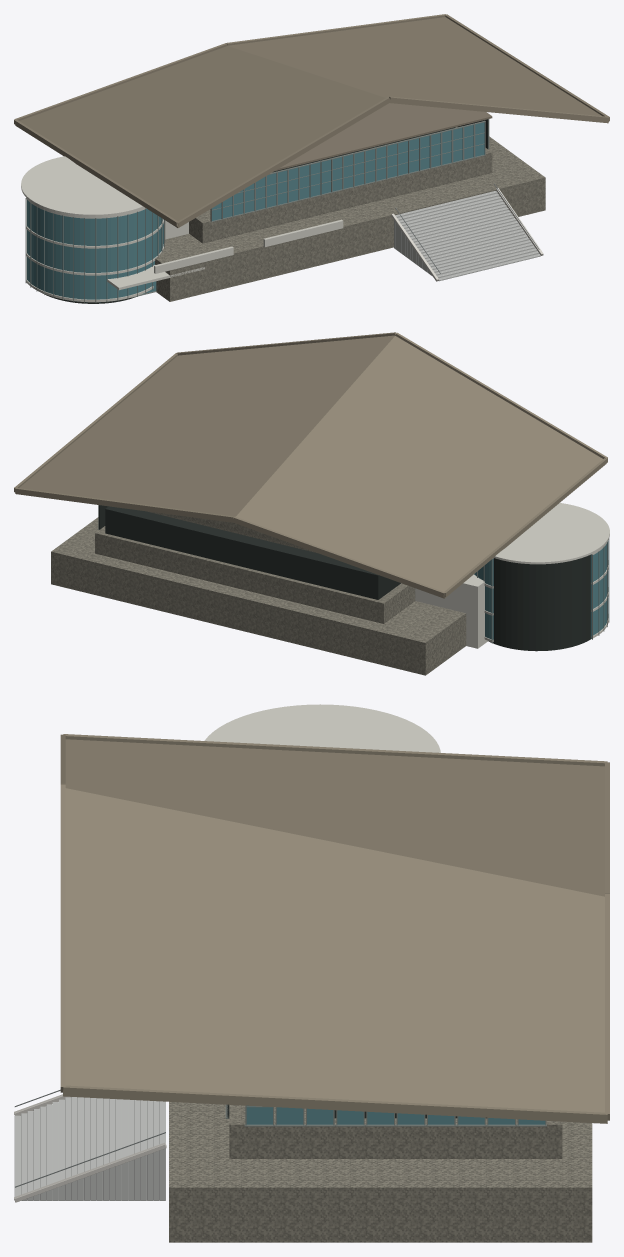
3 renders of one model, top to bottom at view 1: azimuth 30°, elevation 25°; view 2: azimuth 150°, elevation 25°; view 3: azimuth 270°, elevation 25°, orthographic. The views are drawn at different scales.
Visible parts, largest first — view 1: estimated-folded-cantilever-roof__copper, estimated-hillside-plinth__stone, rounded-hall-glass__glass, wide-chapel-hill-stair__concrete, chapel-front-glass__glass, thin-roof-perimeter__copper, chapel-setback-base__stone, estimated-inner-hall-ceiling__soffit, estimated-hall-flat-roof__pale, chapel-front-glass__frame, rounded-hall-mullions__frame, rounded-hall-floor-ribbons__pale (+3 smaller); view 2: estimated-folded-cantilever-roof__copper, estimated-hillside-plinth__stone, estimated-chapel-interior-core__dark, estimated-rounded-hall-inner-core__dark, chapel-setback-base__stone, thin-roof-perimeter__copper, estimated-hall-flat-roof__pale, estimated-hall-connector__pale, rounded-hall-glass__glass, estimated-high-back-wall__stone, rounded-hall-mullions__frame; view 3: estimated-folded-cantilever-roof__copper, estimated-hillside-plinth__stone, wide-chapel-hill-stair__concrete, thin-roof-perimeter__copper, chapel-setback-base__stone, estimated-hall-flat-roof__pale, chapel-side-glass__glass, chapel-side-glass__frame, wide-chapel-hill-stair-cheeks__trim.
Boxes of the visible parts, <box> form: estimated-folded-cantilever-roof__copper: <box>15,17,608,227</box>; estimated-hillside-plinth__stone: <box>155,136,545,301</box>; rounded-hall-glass__glass: <box>27,200,163,302</box>; wide-chapel-hill-stair__concrete: <box>394,191,540,281</box>; chapel-front-glass__glass: <box>212,122,484,220</box>; thin-roof-perimeter__copper: <box>14,14,609,226</box>; chapel-setback-base__stone: <box>189,127,492,243</box>; estimated-inner-hall-ceiling__soffit: <box>275,103,492,170</box>; estimated-hall-flat-roof__pale: <box>21,156,144,216</box>; chapel-front-glass__frame: <box>210,120,485,222</box>; rounded-hall-mullions__frame: <box>25,198,165,302</box>; rounded-hall-floor-ribbons__pale: <box>26,198,163,302</box>; estimated-folded-cantilever-roof__copper: <box>15,335,606,598</box>; estimated-hillside-plinth__stone: <box>51,517,466,675</box>; estimated-chapel-interior-core__dark: <box>105,506,400,599</box>; estimated-rounded-hall-inner-core__dark: <box>488,555,590,651</box>; chapel-setback-base__stone: <box>95,526,415,623</box>; thin-roof-perimeter__copper: <box>14,332,607,597</box>; estimated-hall-flat-roof__pale: <box>494,503,609,564</box>; estimated-hall-connector__pale: <box>415,574,487,648</box>; rounded-hall-glass__glass: <box>474,541,608,642</box>; estimated-high-back-wall__stone: <box>148,511,316,552</box>; rounded-hall-mullions__frame: <box>477,538,609,643</box>; estimated-folded-cantilever-roof__copper: <box>63,739,607,1123</box>; estimated-hillside-plinth__stone: <box>169,1101,592,1242</box>; wide-chapel-hill-stair__concrete: <box>14,1097,165,1200</box>; thin-roof-perimeter__copper: <box>60,734,609,1121</box>; chapel-setback-base__stone: <box>229,1105,562,1158</box>; estimated-hall-flat-roof__pale: <box>204,704,440,752</box>; chapel-side-glass__glass: <box>246,1105,545,1124</box>; chapel-side-glass__frame: <box>244,1105,546,1126</box>; wide-chapel-hill-stair-cheeks__trim: <box>14,1094,166,1202</box>.
Size of the model in its own units: 64.16 by 22.24 by 39.41.
Materials: 10 (1 with a texture image).
